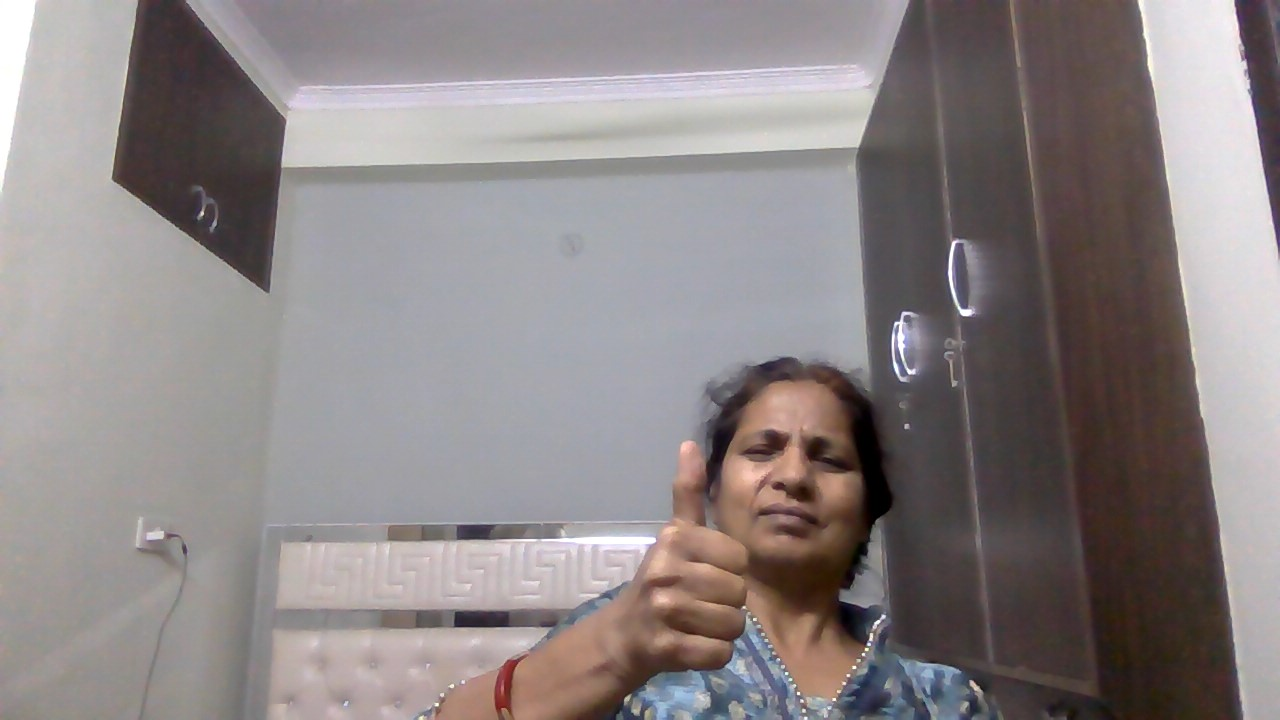Save: (604, 435, 757, 688)
